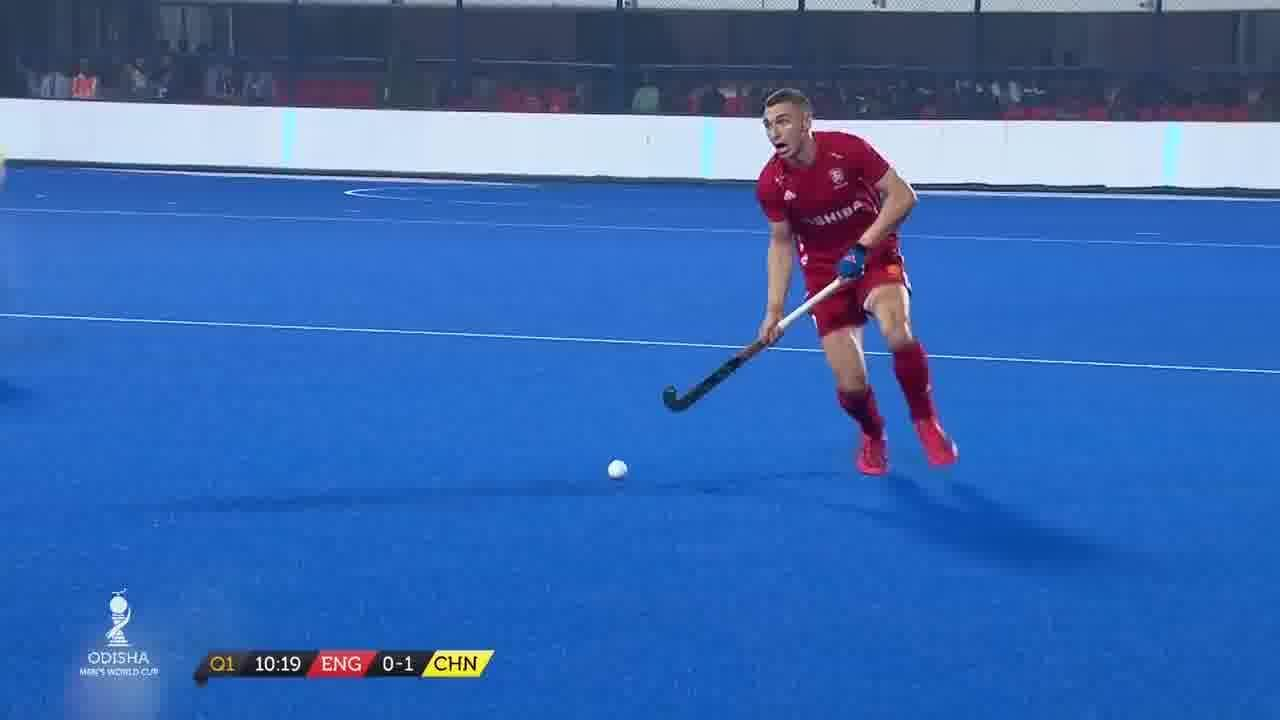ball: (602, 451, 637, 490)
